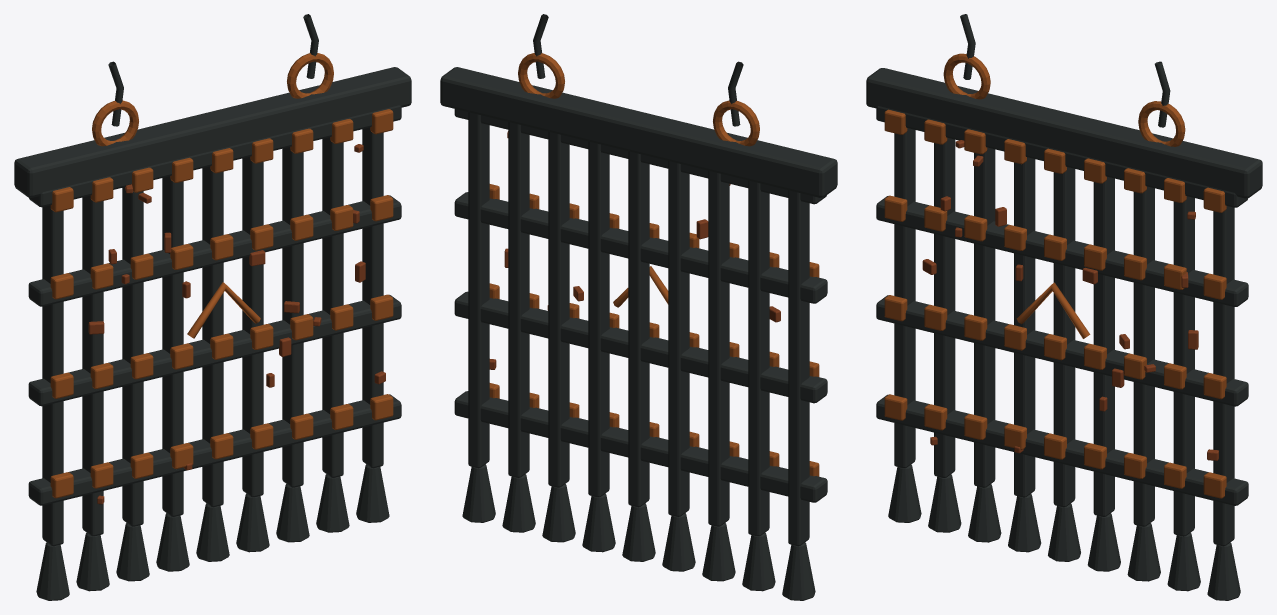
Rendered from portcullis_iron_vertical_LOD0.glb.
The picture shows the model from 3 angles, left to right: view 1: azimuth 30°, elevation 25°; view 2: azimuth 150°, elevation 25°; view 3: azimuth 330°, elevation 25°; orthographic projection.
Parts seen in each view (by area): view 1: PortcullisTopBeam, PortcullisCrossRail, PortcullisVerticalBar.007, PortcullisVerticalBar, PortcullisVerticalBar.002, PortcullisCrossRail.001, PortcullisCrossRail.002, PortcullisVerticalBar.003, PortcullisVerticalBar.008, PortcullisVerticalBar.001, PortcullisVerticalBar.006, PortcullisVerticalBar.004 (+40 smaller); view 2: PortcullisTopBeam, PortcullisVerticalBar.008, PortcullisVerticalBar.007, PortcullisVerticalBar.006, PortcullisVerticalBar.005, PortcullisVerticalBar.004, PortcullisVerticalBar, PortcullisVerticalBar.002, PortcullisVerticalBar.001, PortcullisVerticalBar.003, PortcullisCrossRail, PortcullisCrossRail.001 (+13 smaller); view 3: PortcullisTopBeam, PortcullisCrossRail, PortcullisVerticalBar, PortcullisVerticalBar.006, PortcullisVerticalBar.004, PortcullisVerticalBar.008, PortcullisVerticalBar.002, PortcullisCrossRail.001, PortcullisCrossRail.002, PortcullisVerticalBar.001, PortcullisVerticalBar.007, PortcullisVerticalBar.005 (+32 smaller).
Part boxes in pixels (x1,y1,x2,y2): PortcullisTopBeam: (14, 67, 411, 197); PortcullisCrossRail: (28, 394, 401, 505); PortcullisVerticalBar.007: (322, 137, 343, 477); PortcullisVerticalBar: (42, 205, 63, 546); PortcullisVerticalBar.002: (122, 187, 143, 526); PortcullisCrossRail.001: (28, 294, 401, 406); PortcullisCrossRail.002: (28, 195, 401, 306); PortcullisVerticalBar.003: (162, 176, 183, 516); PortcullisVerticalBar.008: (362, 127, 383, 468); PortcullisVerticalBar.001: (82, 195, 103, 536); PortcullisVerticalBar.006: (282, 147, 303, 487); PortcullisVerticalBar.004: (202, 166, 223, 507); PortcullisTopBeam: (440, 67, 837, 197); PortcullisVerticalBar.008: (468, 112, 489, 468); PortcullisVerticalBar.007: (508, 122, 529, 477); PortcullisVerticalBar.006: (548, 131, 569, 487); PortcullisVerticalBar.005: (588, 141, 609, 497); PortcullisVerticalBar.004: (628, 151, 649, 507); PortcullisVerticalBar: (788, 190, 809, 546); PortcullisVerticalBar.002: (708, 171, 729, 526); PortcullisVerticalBar.001: (748, 180, 769, 536); PortcullisVerticalBar.003: (668, 161, 689, 516); PortcullisCrossRail: (454, 391, 827, 502); PortcullisCrossRail.001: (454, 291, 827, 403); PortcullisTopBeam: (866, 68, 1262, 198); PortcullisCrossRail: (876, 394, 1248, 505); PortcullisVerticalBar: (894, 128, 915, 468); PortcullisVerticalBar.006: (1133, 186, 1154, 526); PortcullisVerticalBar.004: (1053, 167, 1075, 507); PortcullisVerticalBar.008: (1213, 206, 1234, 546); PortcullisVerticalBar.002: (974, 147, 995, 487); PortcullisCrossRail.001: (876, 295, 1248, 406); PortcullisCrossRail.002: (876, 196, 1248, 306); PortcullisVerticalBar.001: (934, 137, 955, 477); PortcullisVerticalBar.007: (1173, 196, 1194, 536); PortcullisVerticalBar.005: (1093, 176, 1114, 516).
Size of the model in its own units: 3.23 by 4.16 by 0.3153.
